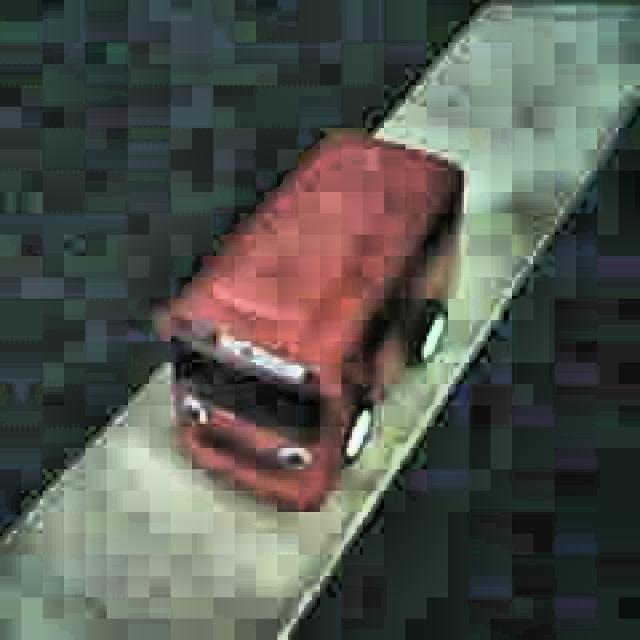bus: (154, 129, 463, 511)
